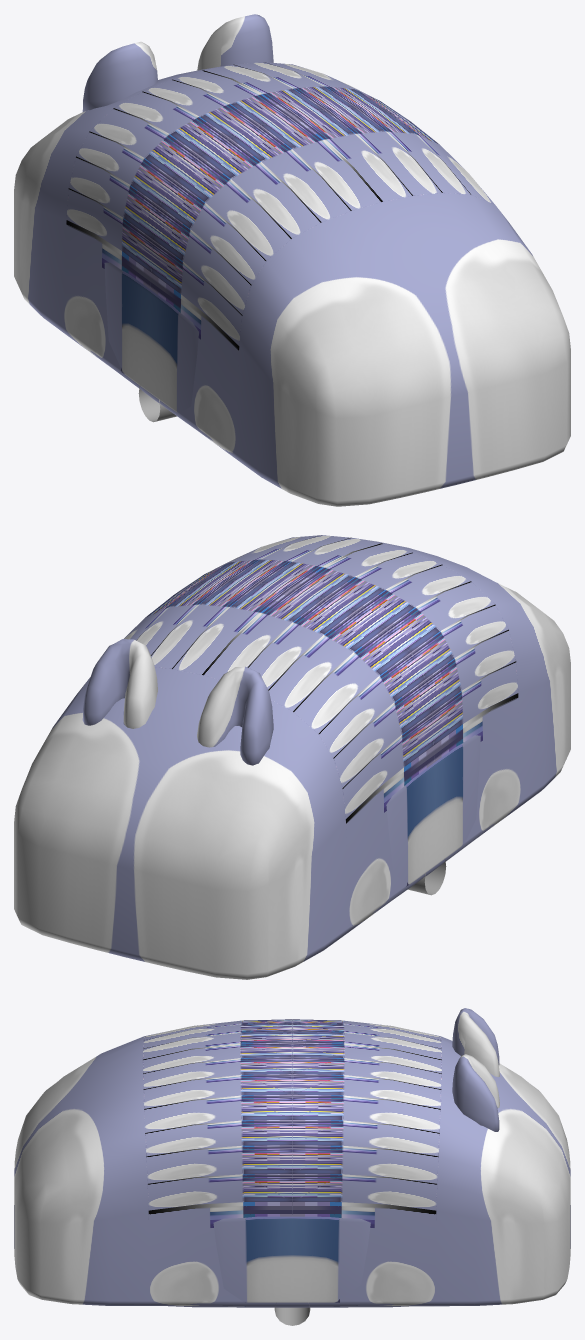
Rendered from Slime.fbx.
3 views of the same model, one above another, from view 1: azimuth 30°, elevation 25°; view 2: azimuth 150°, elevation 25°; view 3: azimuth 270°, elevation 25° (orthographic). The views are drawn at different scales.
Parts seen in each view (by area): view 1: Slime4x_Mesh, Slime2x_Mesh, Link; view 2: Slime4x_Mesh, Slime2x_Mesh, Link; view 3: Slime4x_Mesh, Slime2x_Mesh, Slime3x_Mesh, Link.
Part boxes in pixels (x1,y1,x2,y2): Slime4x_Mesh: [14, 14, 570, 506]; Slime2x_Mesh: [104, 262, 198, 413]; Link: [138, 385, 176, 422]; Slime4x_Mesh: [14, 535, 570, 979]; Slime2x_Mesh: [386, 735, 480, 884]; Link: [408, 859, 446, 895]; Slime4x_Mesh: [14, 1008, 570, 1306]; Slime2x_Mesh: [213, 1216, 370, 1302]; Slime3x_Mesh: [168, 1302, 408, 1307]; Link: [274, 1306, 310, 1325].
Bounding box in the file's own units: 290 × 284 × 586.
